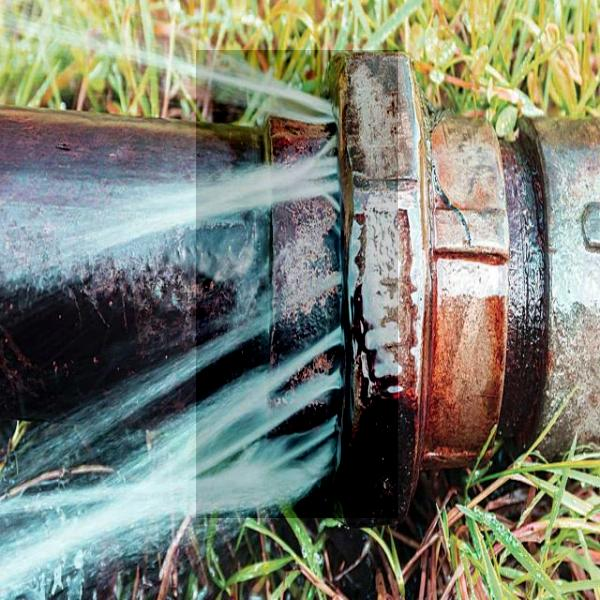leak: (196, 50, 398, 518)
